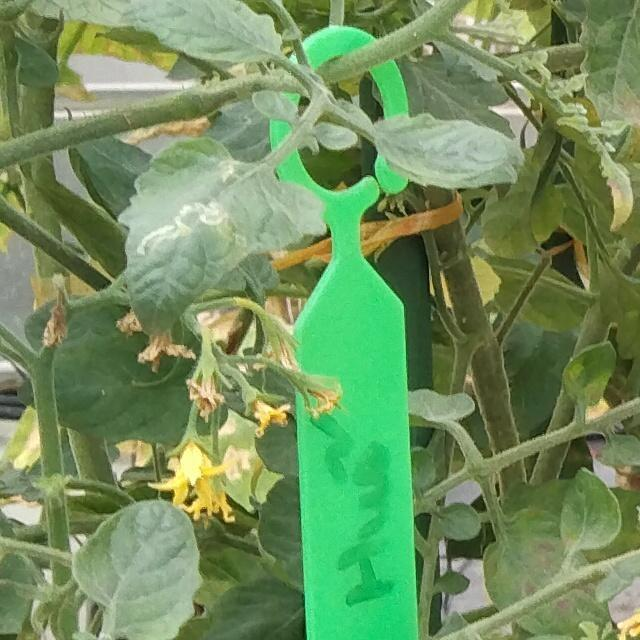Healthy: (71, 496, 204, 640), (373, 112, 527, 191)
Leaf_Miner: (116, 132, 326, 340)
